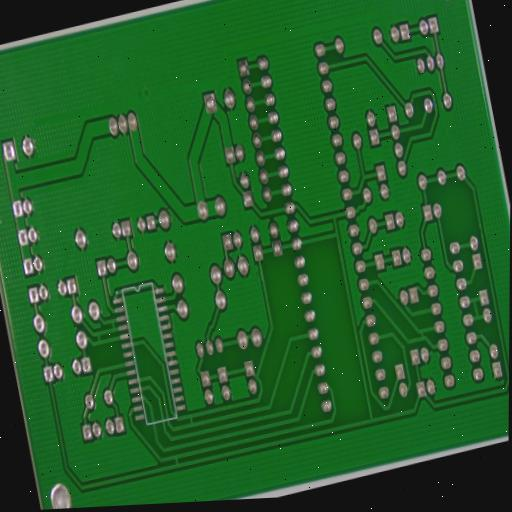short_circuit: (465, 290, 486, 326), (182, 408, 199, 432), (413, 320, 428, 345), (169, 451, 184, 473), (92, 329, 106, 351), (107, 315, 120, 334)
